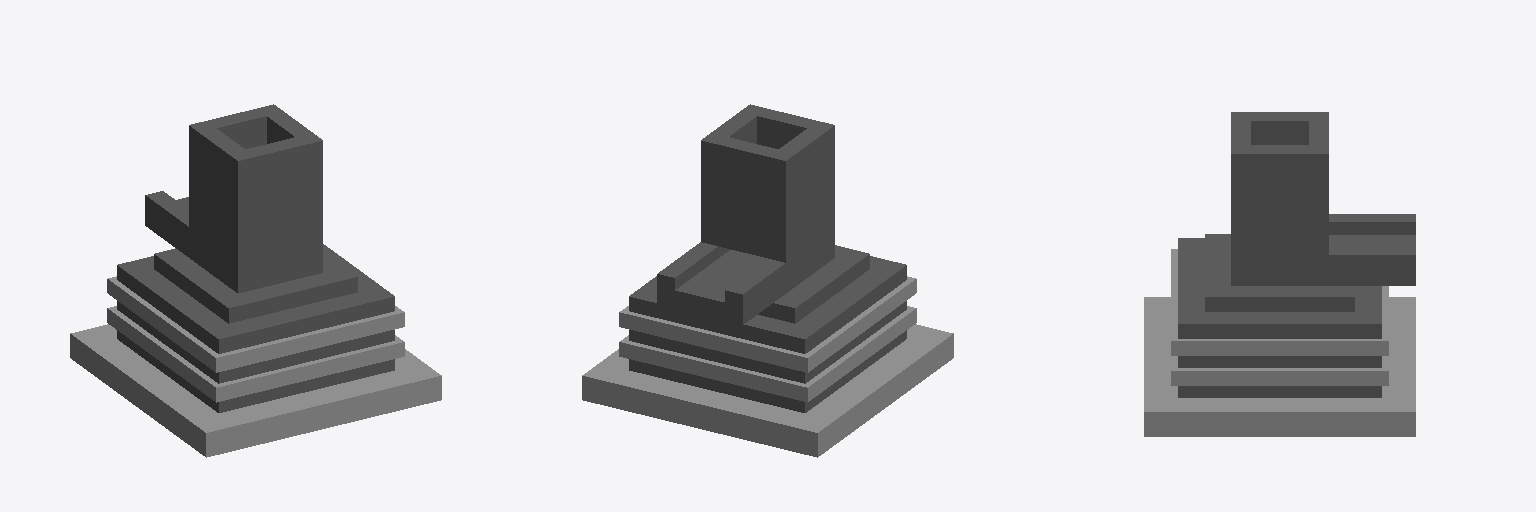
File: vertical_reduced.obj
3 renders of one model, left to right at view 1: azimuth 30°, elevation 25°; view 2: azimuth 150°, elevation 25°; view 3: azimuth 270°, elevation 25°, orthographic.
Visible parts, largest first — view 1: FluidConnector_Cube.000, FloorPlate_Cube.000, Pump_Layer5_Cube.000, Pump_Podest_Cube.000, Pump_Layer4_Cube.000, Pump_Layer2_Cube.000, Pump_Layer1_Cube.000, Pump_Layer3_Cube.000, ConduitCloser_Cube.000; view 2: FluidConnector_Cube.000, FloorPlate_Cube.000, Pump_Layer5_Cube.000, Pump_Layer4_Cube.000, Pump_Layer2_Cube.000, Pump_Podest_Cube.000, Pump_Layer1_Cube.000, Pump_Layer3_Cube.000; view 3: FluidConnector_Cube.000, FloorPlate_Cube.000, Pump_Layer5_Cube.000, Pump_Podest_Cube.000, Pump_Layer4_Cube.000, Pump_Layer2_Cube.000, Pump_Layer1_Cube.000, Pump_Layer3_Cube.000, ConduitCloser_Cube.000.
Boxes of the visible parts, <box> form: FluidConnector_Cube.000: <box>145,104,322,293</box>; FloorPlate_Cube.000: <box>70,324,441,457</box>; Pump_Layer5_Cube.000: <box>117,244,394,353</box>; Pump_Podest_Cube.000: <box>154,248,357,323</box>; Pump_Layer4_Cube.000: <box>107,276,404,372</box>; Pump_Layer2_Cube.000: <box>107,306,404,402</box>; Pump_Layer1_Cube.000: <box>117,330,394,412</box>; Pump_Layer3_Cube.000: <box>117,301,394,383</box>; ConduitCloser_Cube.000: <box>199,235,305,270</box>; FluidConnector_Cube.000: <box>657,104,834,324</box>; FloorPlate_Cube.000: <box>582,324,953,457</box>; Pump_Layer5_Cube.000: <box>629,256,906,353</box>; Pump_Layer4_Cube.000: <box>619,276,916,372</box>; Pump_Layer2_Cube.000: <box>619,306,916,402</box>; Pump_Podest_Cube.000: <box>758,245,869,323</box>; Pump_Layer1_Cube.000: <box>629,330,906,412</box>; Pump_Layer3_Cube.000: <box>629,301,906,383</box>; FluidConnector_Cube.000: <box>1231,112,1415,285</box>; FloorPlate_Cube.000: <box>1144,297,1415,436</box>; Pump_Layer5_Cube.000: <box>1178,238,1381,338</box>; Pump_Podest_Cube.000: <box>1205,234,1354,311</box>; Pump_Layer4_Cube.000: <box>1171,249,1388,355</box>; Pump_Layer2_Cube.000: <box>1171,356,1388,385</box>; Pump_Layer1_Cube.000: <box>1178,386,1381,397</box>; Pump_Layer3_Cube.000: <box>1178,356,1381,367</box>; ConduitCloser_Cube.000: <box>1251,255,1308,267</box>.
Bounding box in the file's own units: 1 × 1 × 1.